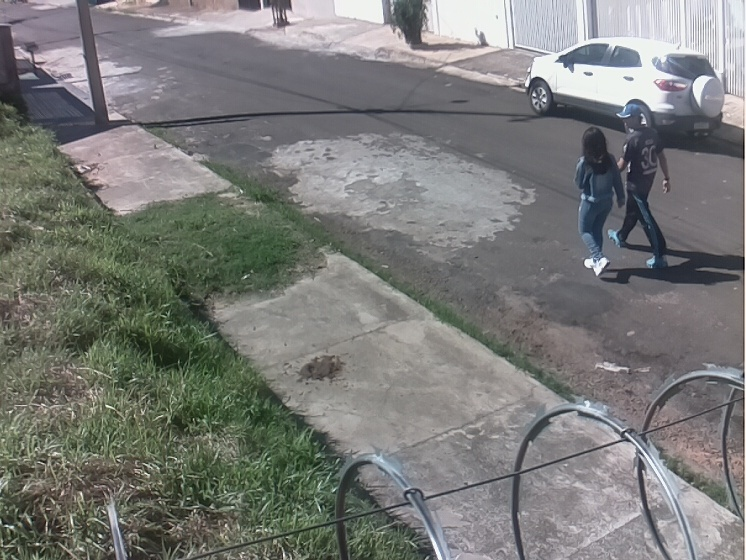person: (607, 103, 671, 273), (574, 126, 626, 277)
